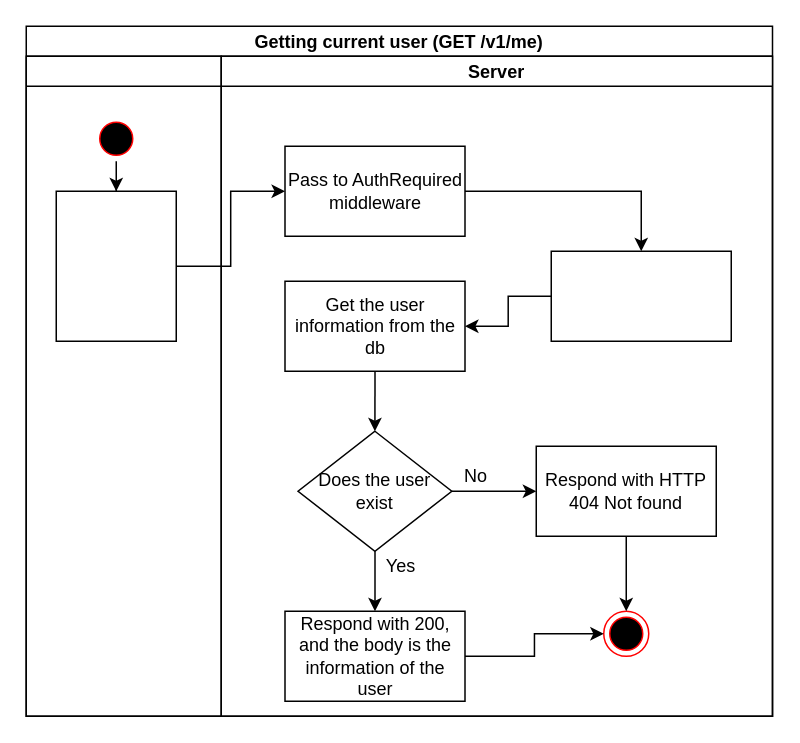
Image size: 800x743. Some labels were removed from this diagram. The box of each missing label's shape, as (x1, y1, x2, y2) in pixels:
Client: (25, 55, 221, 716)
Get the username from the context (set form AuthRequired middleware): (550, 250, 731, 341)
Send a GET request: (55, 190, 176, 341)
